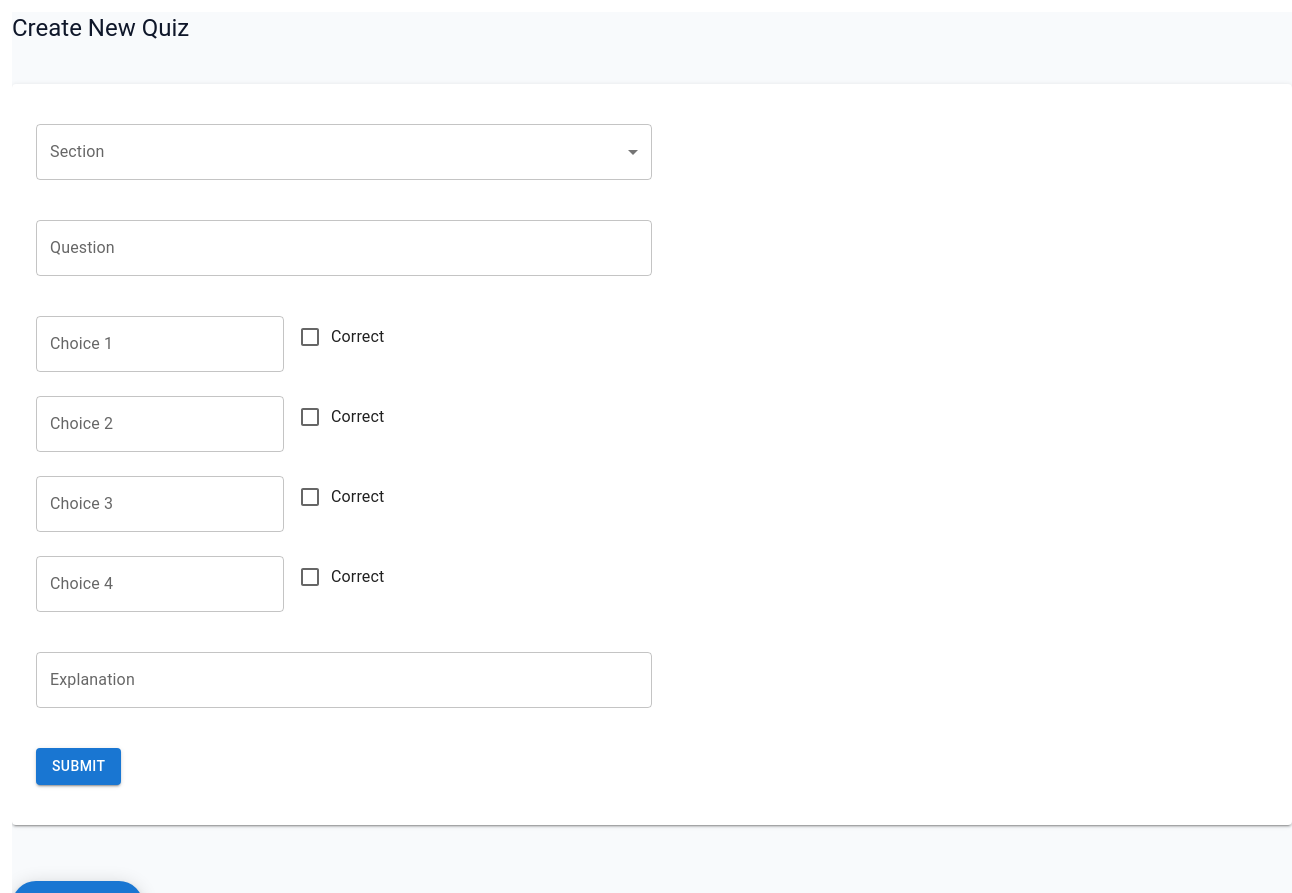
Test: shows validation error when question text is empty on submit
Click the button "Submit". click: (79, 766)
box: [36,748,121,784]
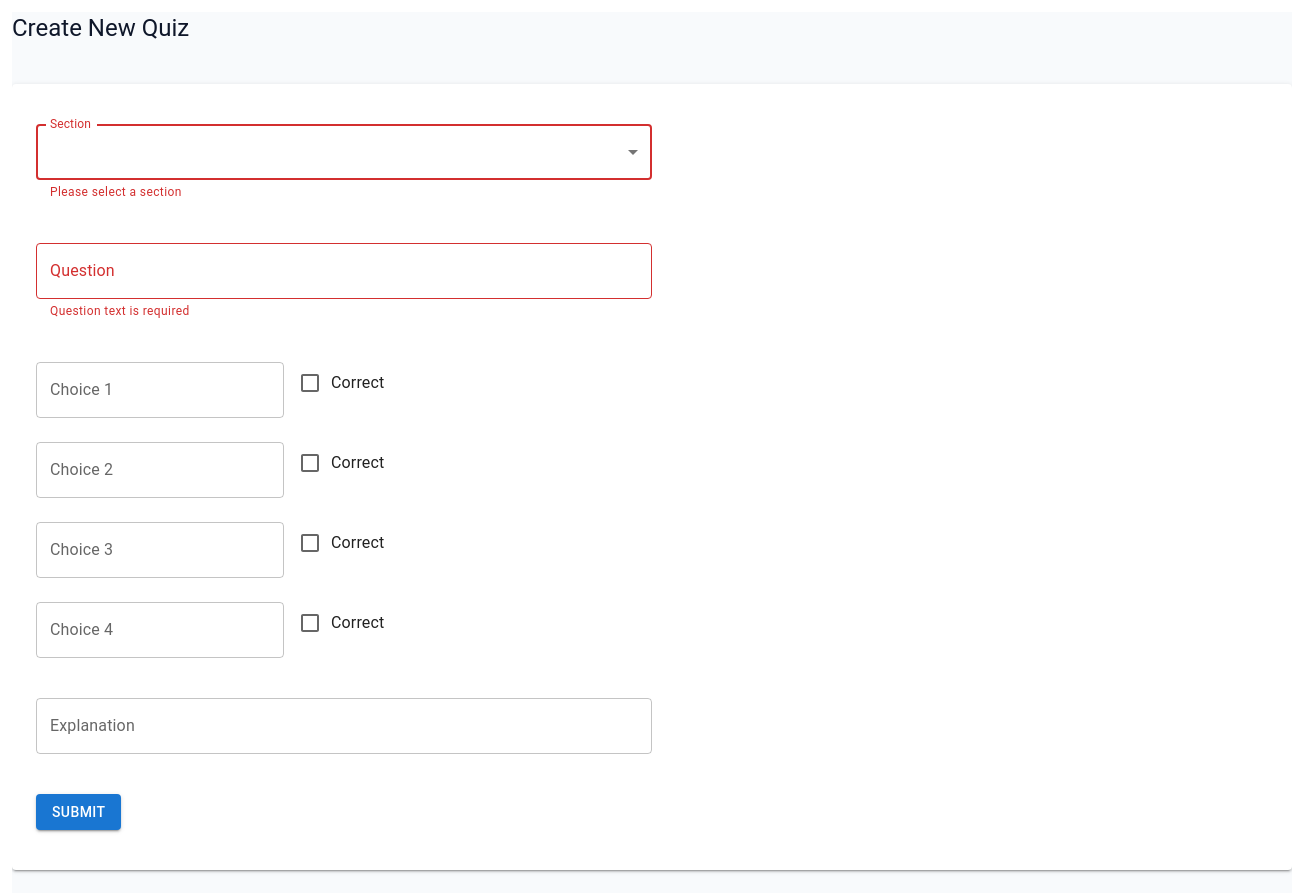
Check: the text "Question text is required" is shown, box [50,304,190,318]
